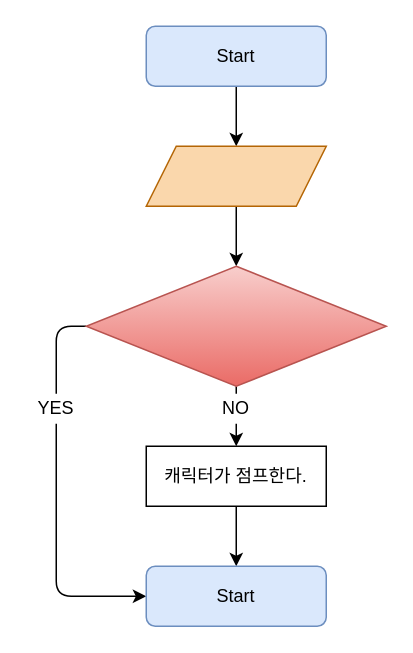
This 413x653 diagram has some shape labels left out. Each missing label, with the centre of its shape:
"Z키 입력" goes at point (235, 175).
"캐릭터가 체공중인가?" goes at point (235, 325).
